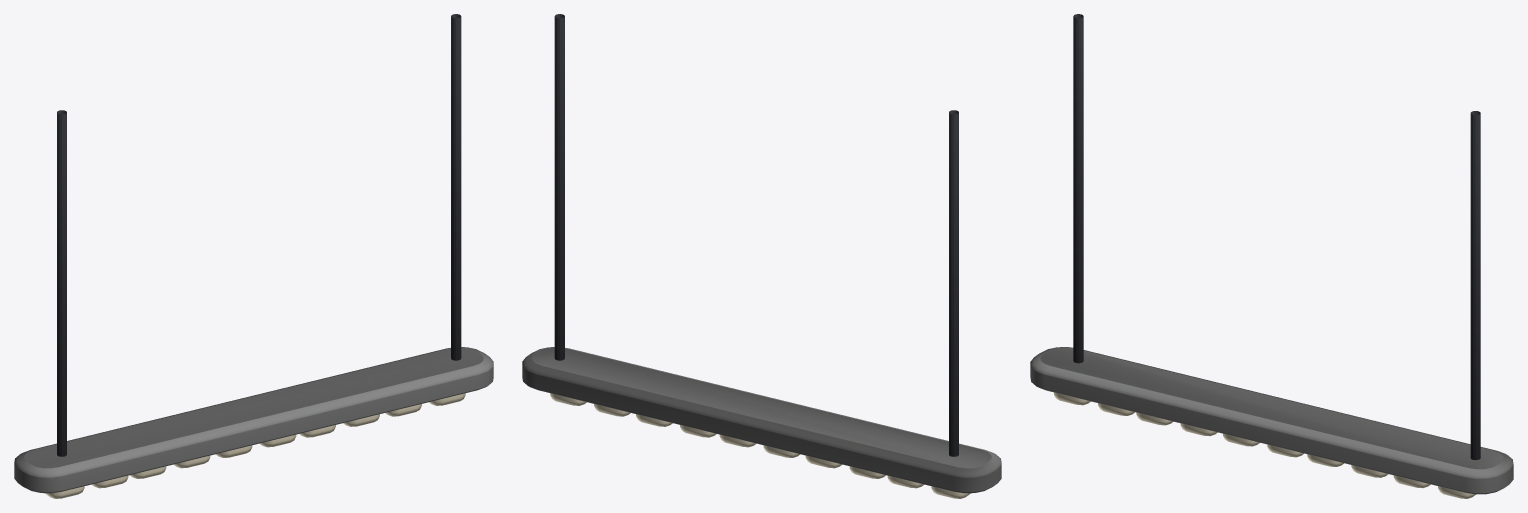
File: environment_lights.fbx
3 renders of one model, left to right at view 1: azimuth 30°, elevation 25°; view 2: azimuth 150°, elevation 25°; view 3: azimuth 330°, elevation 25°, orthographic.
Parts seen in each view (by area): view 1: environment_lights; view 2: environment_lights; view 3: environment_lights.
Part boxes in pixels (bbox=[...]): environment_lights: bbox=[14, 14, 493, 498]; environment_lights: bbox=[522, 14, 1001, 498]; environment_lights: bbox=[1030, 14, 1513, 498].
Bounding box in the file's own units: 200 × 155 × 25.
